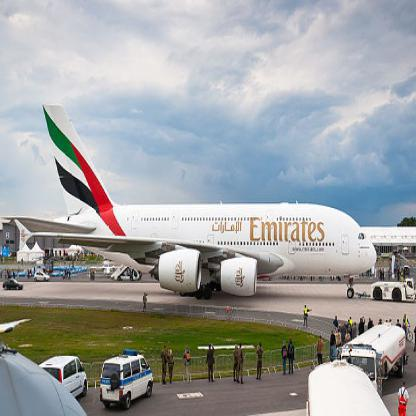CIV_Plane: (2, 100, 378, 310)
